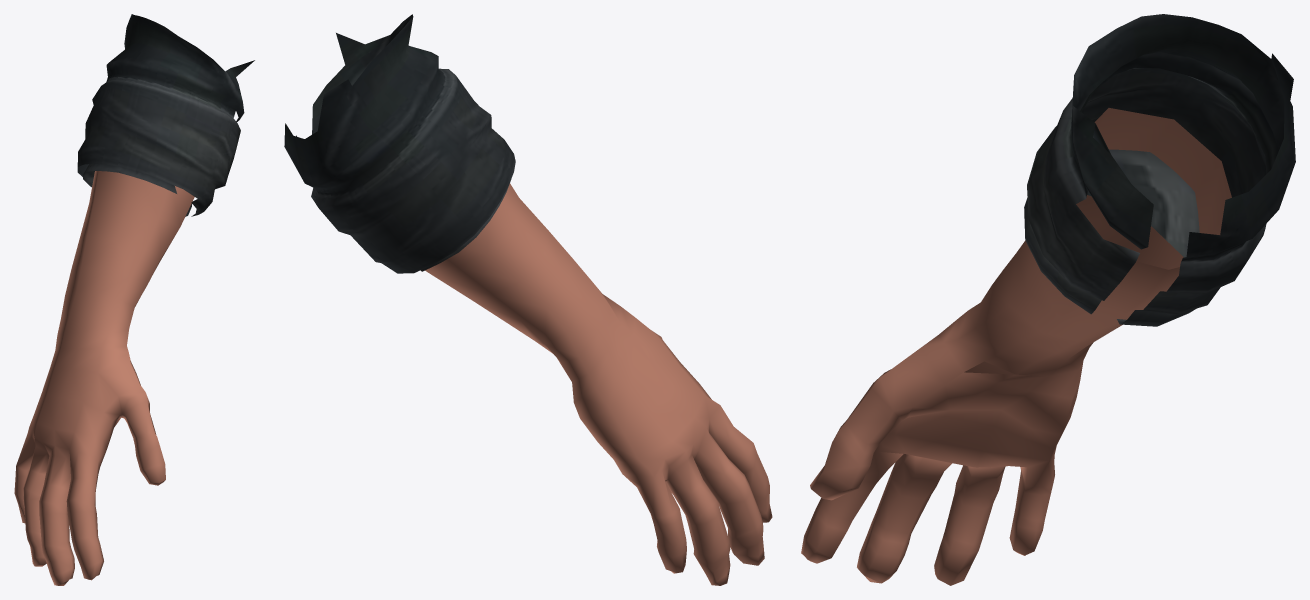
The model's file is estudiante1_manoder.glb.
The picture shows the model from 3 angles, left to right: view 1: azimuth 30°, elevation 25°; view 2: azimuth 150°, elevation 25°; view 3: azimuth 270°, elevation 25°; orthographic projection. The views are drawn at different scales.
Visible parts, largest first — view 1: Object_11; view 2: Object_11; view 3: Object_11.
Boxes of the visible parts, x1,y1,x2,y2 form: Object_11: (14, 14, 254, 585); Object_11: (284, 14, 772, 585); Object_11: (801, 14, 1295, 585).
Bounding box in the file's own units: 0.2622 × 0.4088 × 0.2581.
2 materials, 2 textured.
